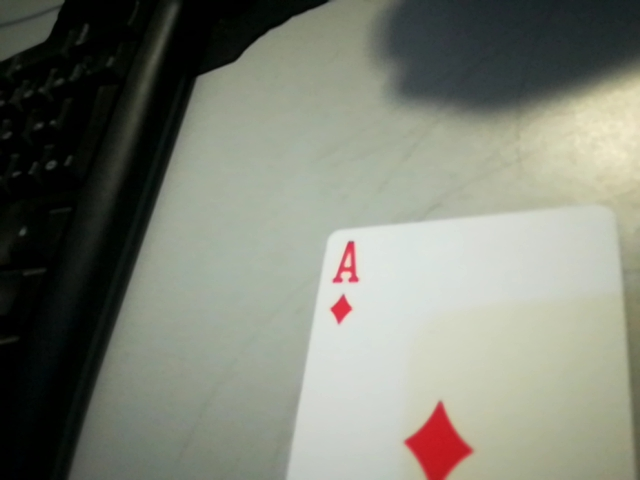fk a: (315, 234, 370, 331)
